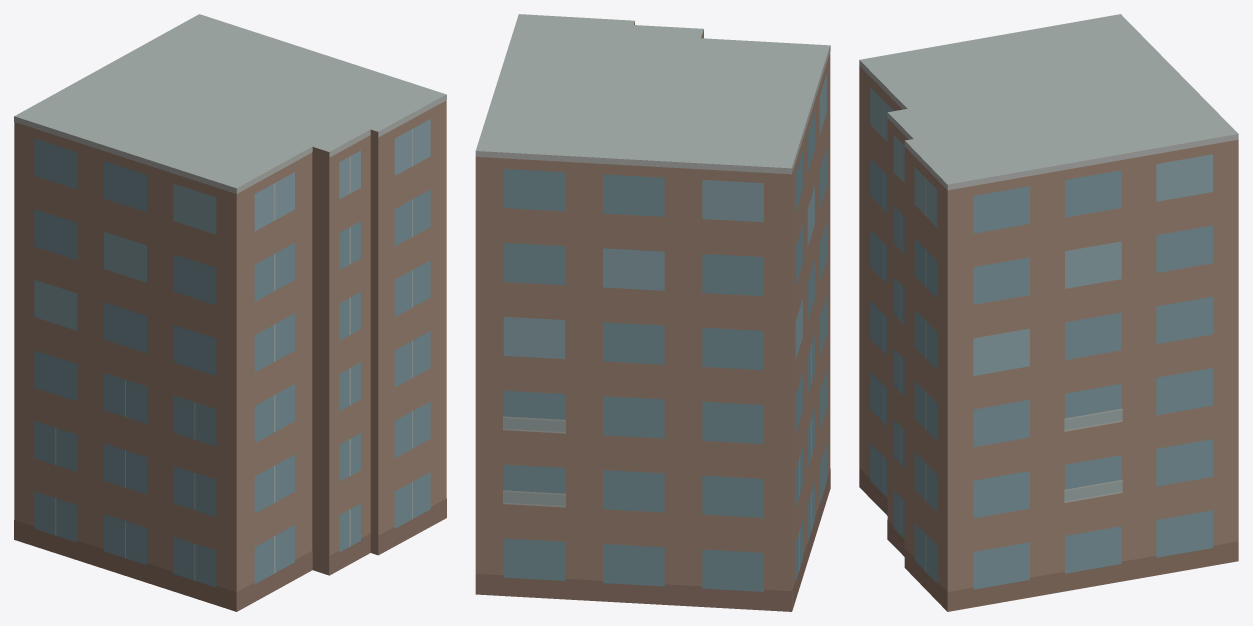
The model's file is survey-upis-32525731.glb.
3 renders of one model, left to right at view 1: azimuth 30°, elevation 25°; view 2: azimuth 150°, elevation 25°; view 3: azimuth 270°, elevation 25°, orthographic. The views are drawn at different scales.
Visible parts, largest first — view 1: survey-upis-32525731.tmp; view 2: survey-upis-32525731.tmp; view 3: survey-upis-32525731.tmp.
Part boxes in pixels (x1,y1,x2,y2): survey-upis-32525731.tmp: (14, 14, 446, 611); survey-upis-32525731.tmp: (475, 14, 830, 611); survey-upis-32525731.tmp: (859, 14, 1238, 611).
Size of the model in its own units: 15.69 by 18.3 by 14.74.
